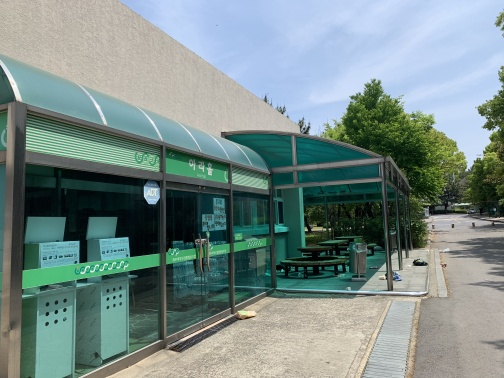Ara Hall: (1, 78, 425, 351)
